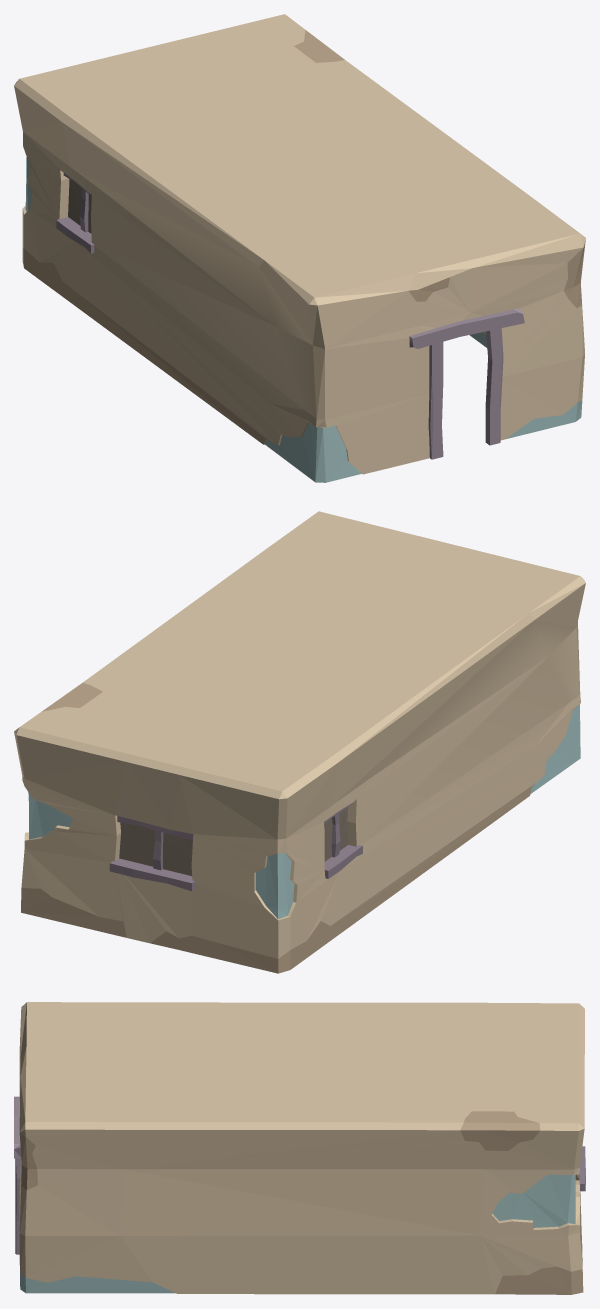
File: SM_Bld_Village_05.fbx
3 views of the same model, one above another, from view 1: azimuth 30°, elevation 25°; view 2: azimuth 150°, elevation 25°; view 3: azimuth 270°, elevation 25° (orthographic). The views are drawn at different scales.
Visible parts, largest first — view 1: SM_Bld_Village_05; view 2: SM_Bld_Village_05; view 3: SM_Bld_Village_05.
Boxes of the visible parts, bbox=[...] form: SM_Bld_Village_05: bbox=[14, 14, 585, 482]; SM_Bld_Village_05: bbox=[14, 511, 585, 973]; SM_Bld_Village_05: bbox=[14, 1002, 585, 1294].
Size of the model in its own units: 0.052 by 0.0329 by 0.0997.
1 material, 1 textured.
